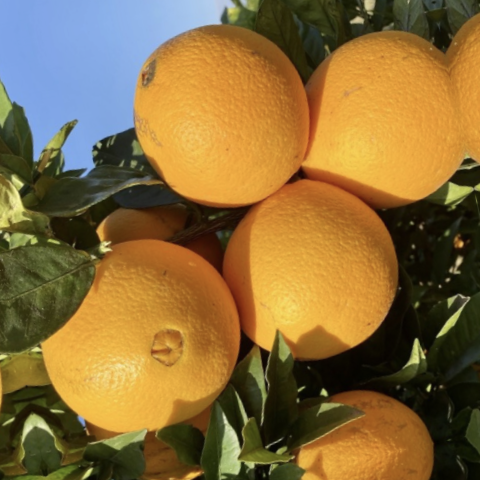orange: (10, 201, 261, 459), (259, 0, 478, 254), (192, 159, 414, 393), (116, 0, 323, 224)
